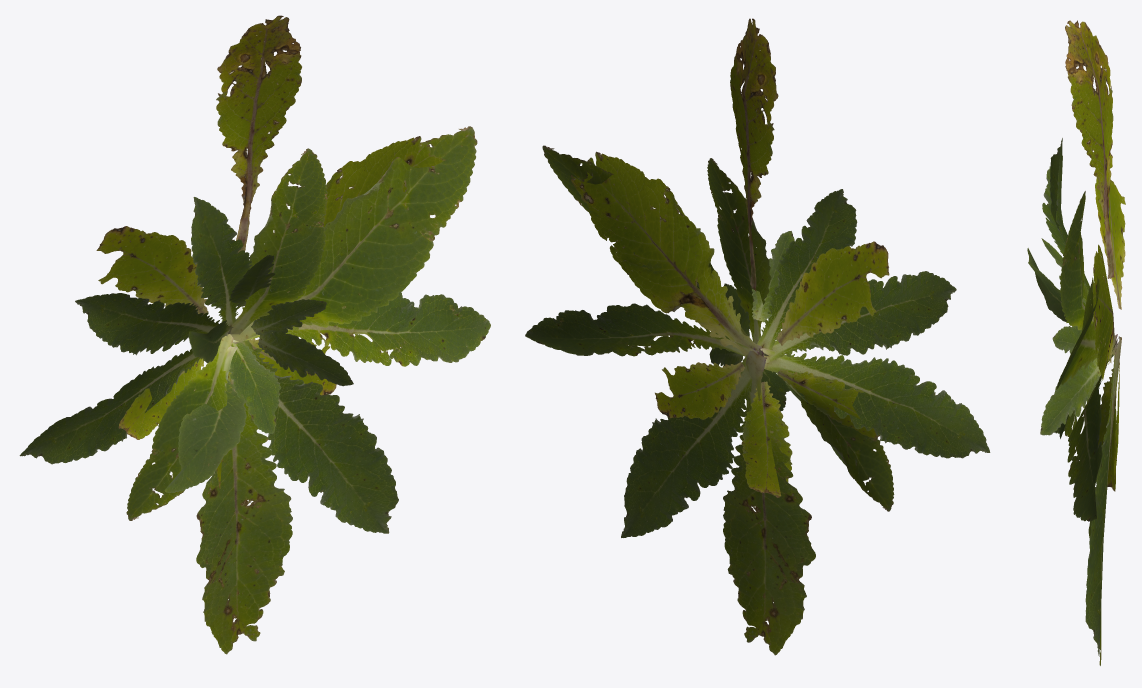
Rendered from Weed_01_Var1_LOD2.fbx.
3 views of the same model, side by side, from view 1: azimuth 30°, elevation 25°; view 2: azimuth 150°, elevation 25°; view 3: azimuth 270°, elevation 25° (orthographic). The views are drawn at different scales.
Parts seen in each view (by area): view 1: Var1_LOD2; view 2: Var1_LOD2; view 3: Var1_LOD2.
Part boxes in pixels (x1=…): Var1_LOD2: x1=19, y1=15, x2=490, y2=654; Var1_LOD2: x1=525, y1=18, x2=990, y2=655; Var1_LOD2: x1=1027, y1=20, x2=1125, y2=665.
Bounding box in the file's own units: 39.39 × 51.19 × 7.16.
